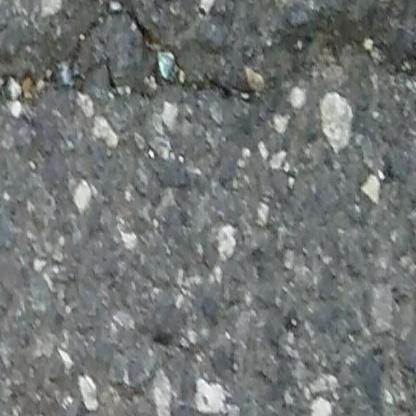Cracks: (0, 0, 416, 109)
